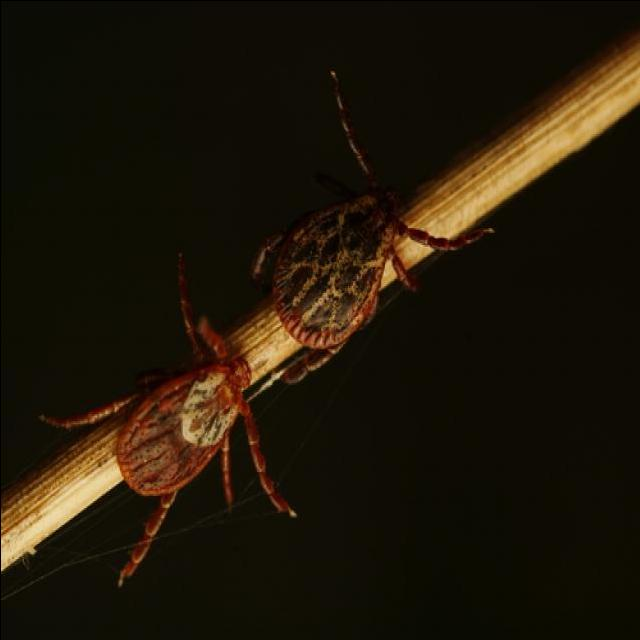Dermacentor Reticulatus-F: (38, 251, 297, 585)
Dermacentor Reticulatus-M: (251, 68, 493, 381)
